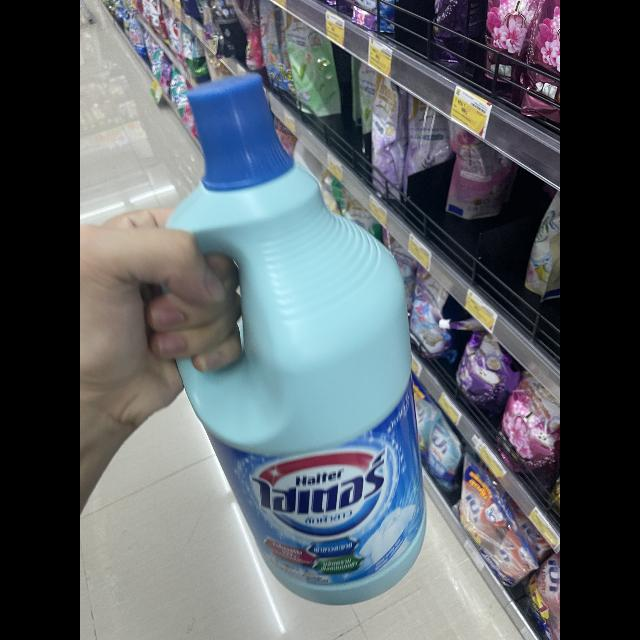chemical_plastic_bottle: (147, 67, 429, 609)
